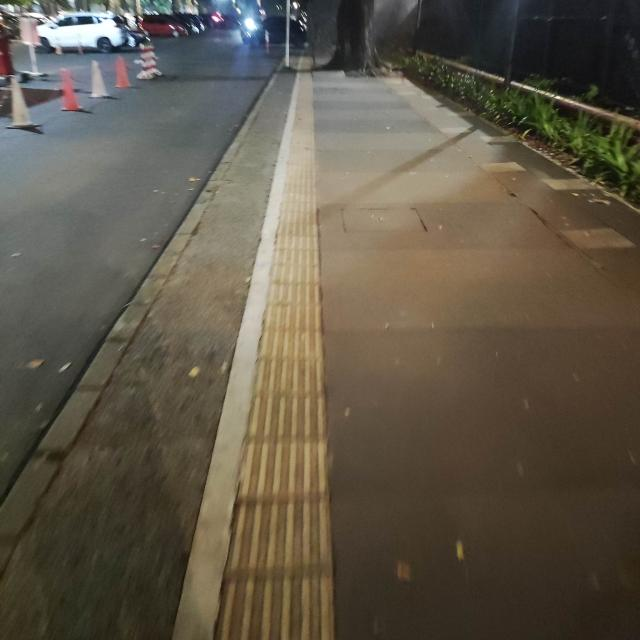lurus: (245, 96, 337, 640)
